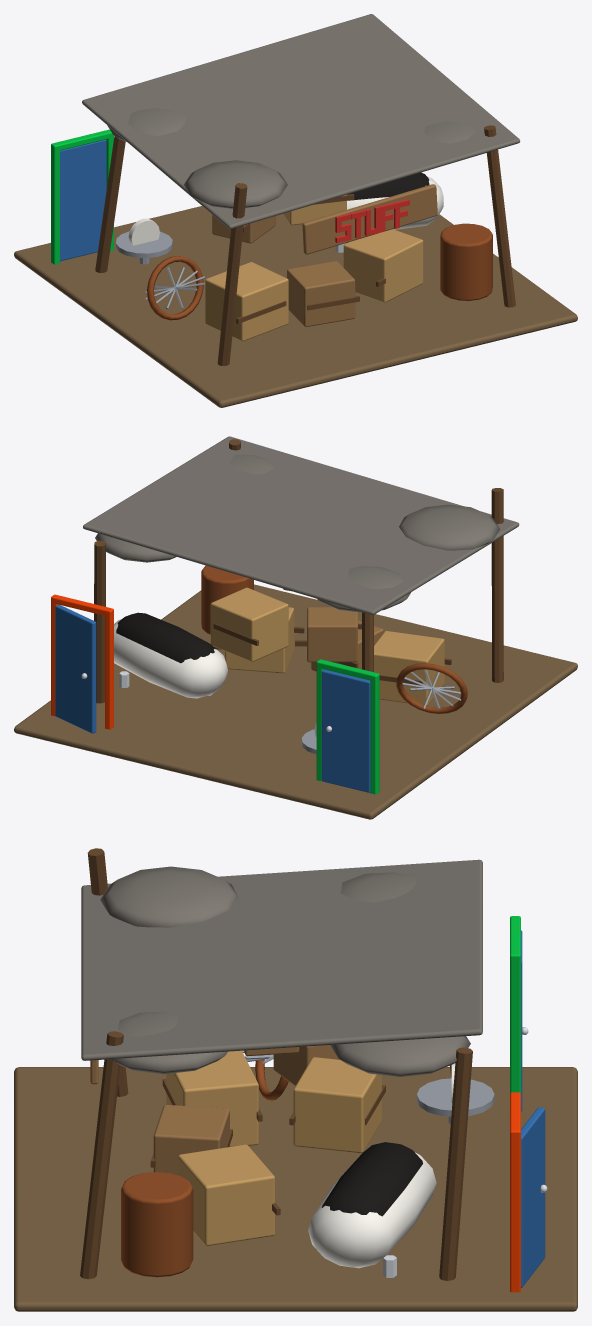
File: building_freight_warehouse_t1.glb
3 renders of one model, top to bottom at view 1: azimuth 30°, elevation 25°; view 2: azimuth 150°, elevation 25°; view 3: azimuth 270°, elevation 25°, orthographic. The views are drawn at different scales.
Parts seen in each view (by area): view 1: Tarp, Lot, Entry.Leaf, Crate2, Crate0, Barrel, Crate1, Tarp.Sag0, Sign, Pole0, Pole1, Pole2 (+11 smaller); view 2: Lot, Tarp, Entry.Leaf, Exit.Leaf, Crate4, Tub, Crate0, Tarp.Sag0, Crate3, Tub.Hollow, Pole0, Pole3 (+13 smaller); view 3: Lot, Tarp, Crate2, Barrel, Crate4, Tarp.Sag0, Tub, Crate0, Tub.Hollow, Pole1, Pole3, Tarp.Sag3 (+10 smaller).
Boxes of the visible parts, left/top/right/bottom form: Tarp: left=82, top=14, right=520, bottom=228; Lot: left=14, top=206, right=577, bottom=407; Entry.Leaf: left=60, top=139, right=106, bottom=261; Crate2: left=343, top=229, right=423, bottom=302; Crate0: left=205, top=262, right=288, bottom=341; Barrel: left=440, top=223, right=492, bottom=300; Crate1: left=287, top=261, right=355, bottom=326; Tarp.Sag0: left=184, top=160, right=287, bottom=208; Sign: left=302, top=184, right=437, bottom=254; Pole0: left=217, top=183, right=247, bottom=365; Pole1: left=484, top=125, right=515, bottom=307; Pole2: left=95, top=136, right=125, bottom=272; Lot: left=14, top=584, right=577, bottom=819; Tarp: left=83, top=436, right=519, bottom=614; Entry.Leaf: left=321, top=669, right=370, bottom=792; Exit.Leaf: left=55, top=605, right=96, bottom=733; Crate4: left=210, top=587, right=288, bottom=661; Tub: left=114, top=619, right=227, bottom=698; Crate0: left=374, top=631, right=444, bottom=705; Tarp.Sag0: left=399, top=504, right=499, bottom=550; Crate3: left=307, top=607, right=357, bottom=662; Tub.Hollow: left=116, top=612, right=215, bottom=663; Pole0: left=491, top=488, right=503, bottom=682; Pole3: left=94, top=540, right=105, bottom=703; Lot: left=14, top=1067, right=577, bottom=1311; Tarp: left=81, top=859, right=482, bottom=1060; Crate2: left=178, top=1144, right=274, bottom=1245; Barrel: left=121, top=1172, right=193, bottom=1277; Crate4: left=293, top=1057, right=381, bottom=1153; Tarp.Sag0: left=100, top=866, right=238, bottom=927; Tub: left=308, top=1152, right=436, bottom=1268; Crate0: left=166, top=1050, right=258, bottom=1146; Tub.Hollow: left=321, top=1142, right=422, bottom=1216; Pole1: left=80, top=1031, right=123, bottom=1279; Pole3: left=439, top=1047, right=472, bottom=1280; Tarp.Sag3: left=330, top=1036, right=470, bottom=1076.
Size of the model in its own units: 4.06 by 2.07 by 4.06.
